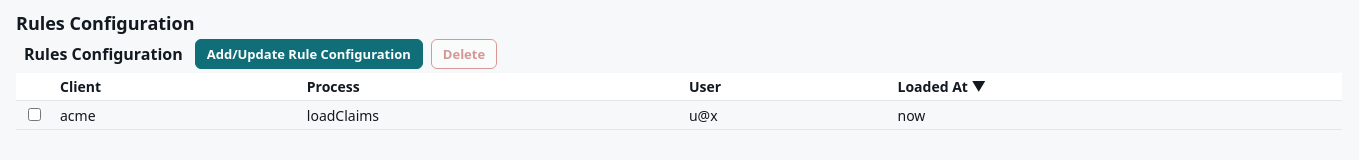
Test: the screen › offers Add/Update with no row selected and Delete only with one
Check: the text "loadClaims" is shown, box left=299, top=100, right=681, bottom=130
Check: the button "Add/Update Rule Configuration" is enabled, box left=195, top=39, right=423, bottom=69
Click the checkbox at (34, 114), box left=28, top=108, right=41, bottom=121
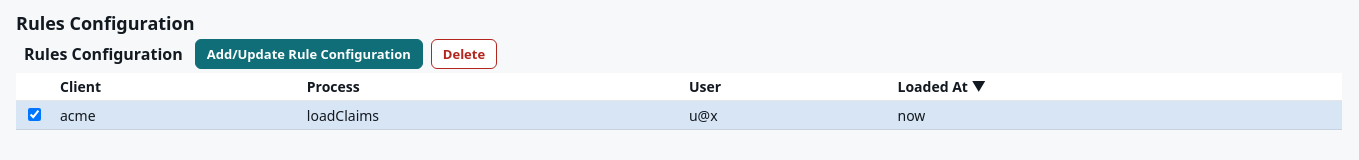
Check: the checkbox is checked, box left=28, top=108, right=41, bottom=121
Check: the button "Delete" is enabled, box left=431, top=39, right=497, bottom=69
